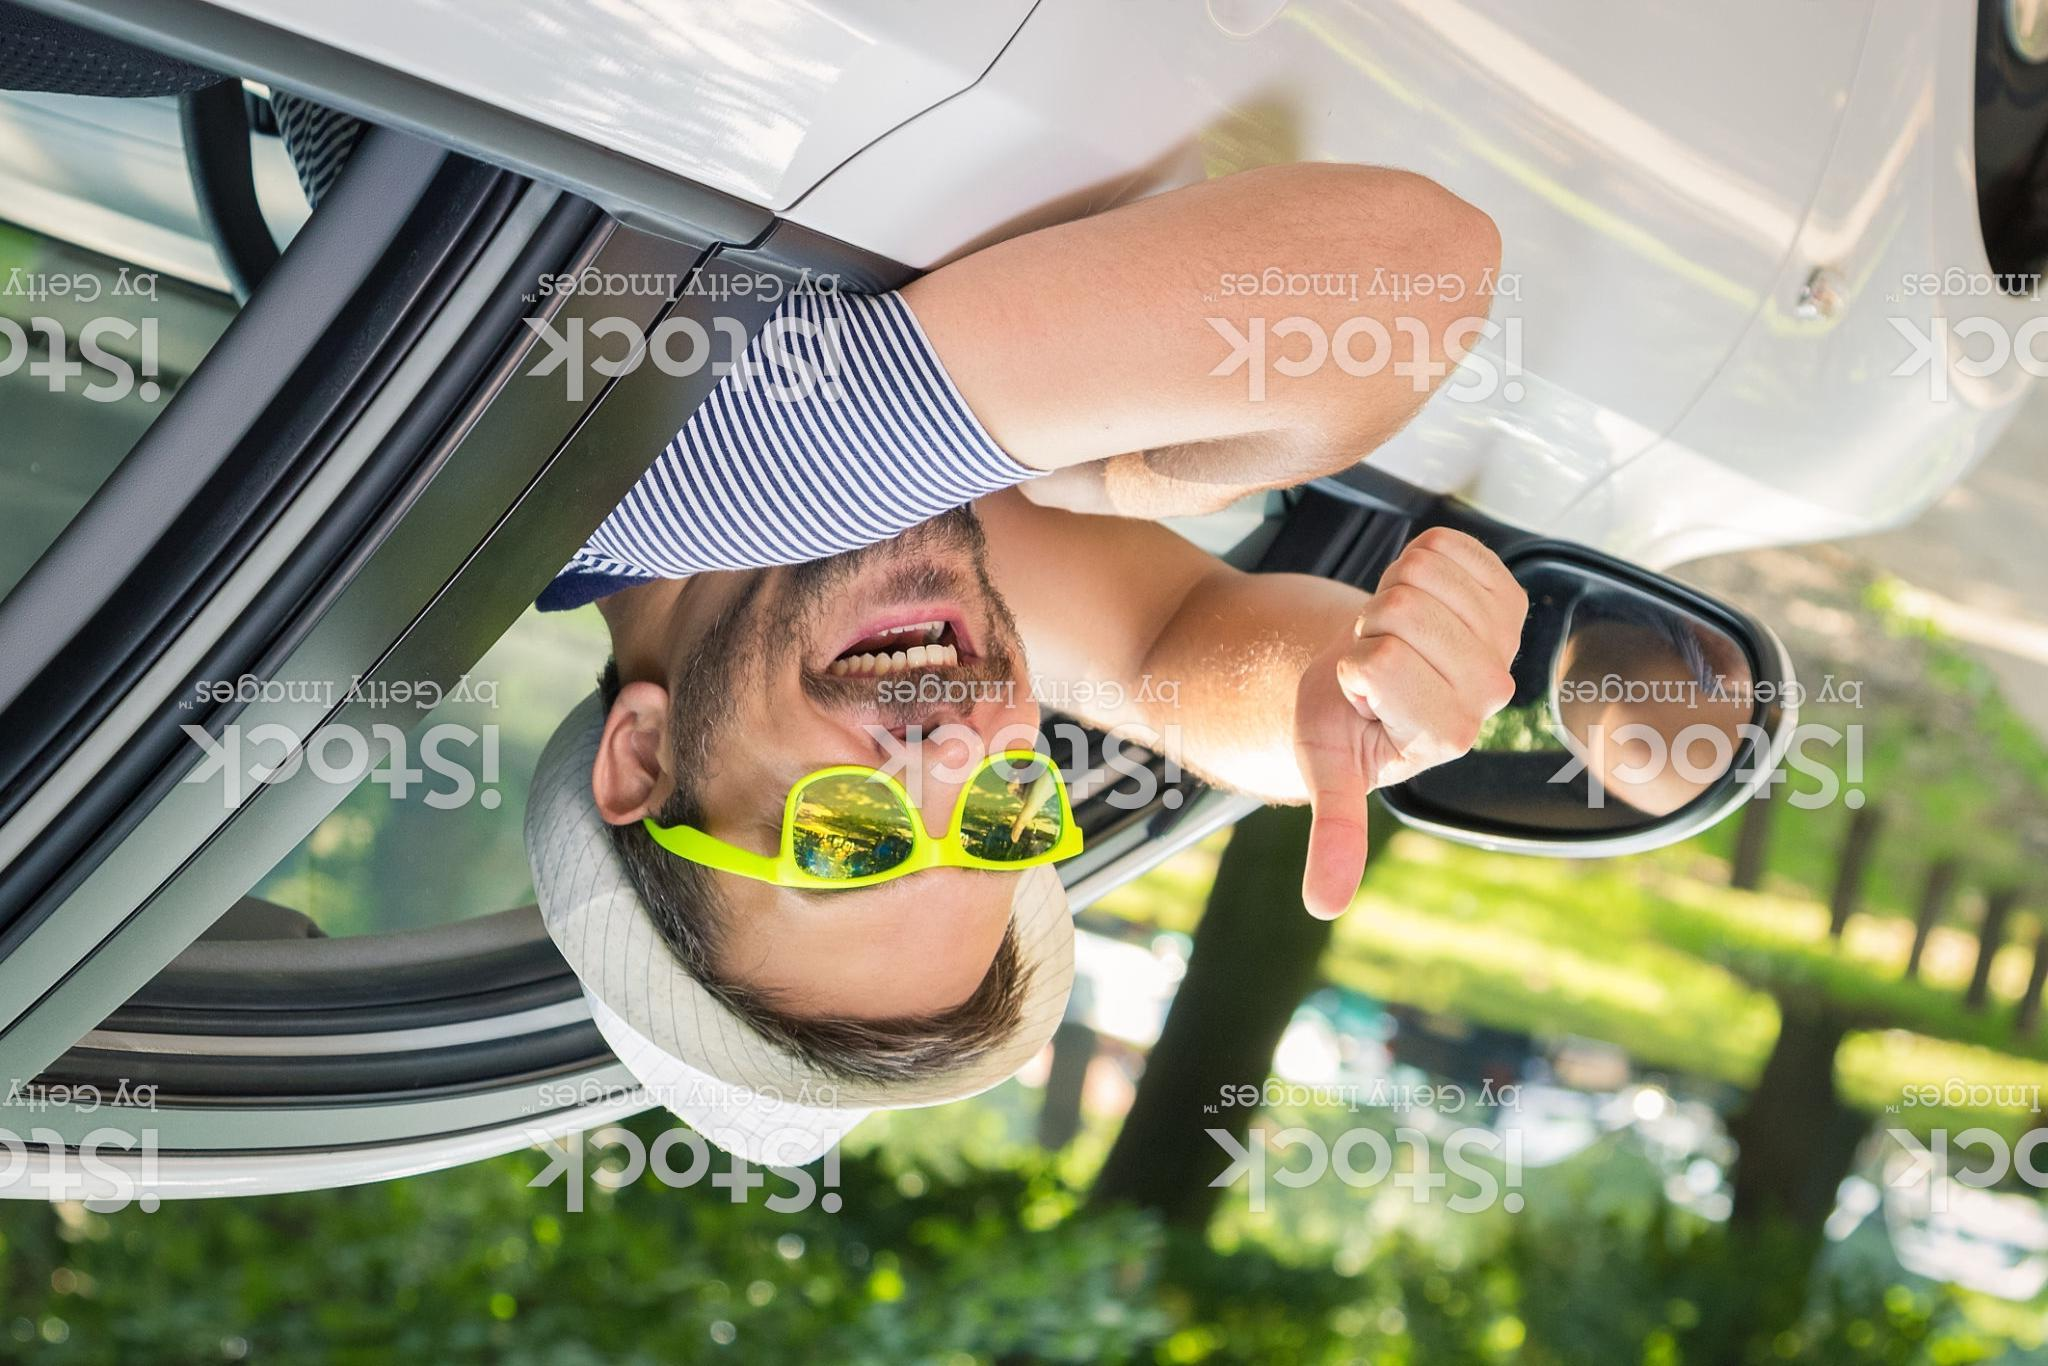thumbsdown: (1289, 520, 1533, 927)
